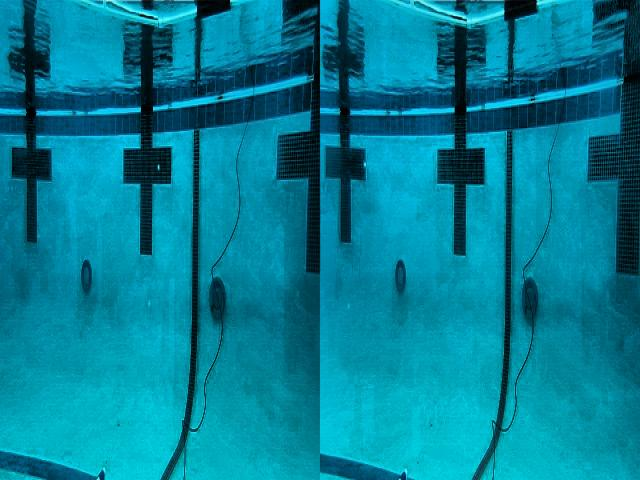octagon_top: (83, 0, 246, 29), (390, 0, 555, 25)
